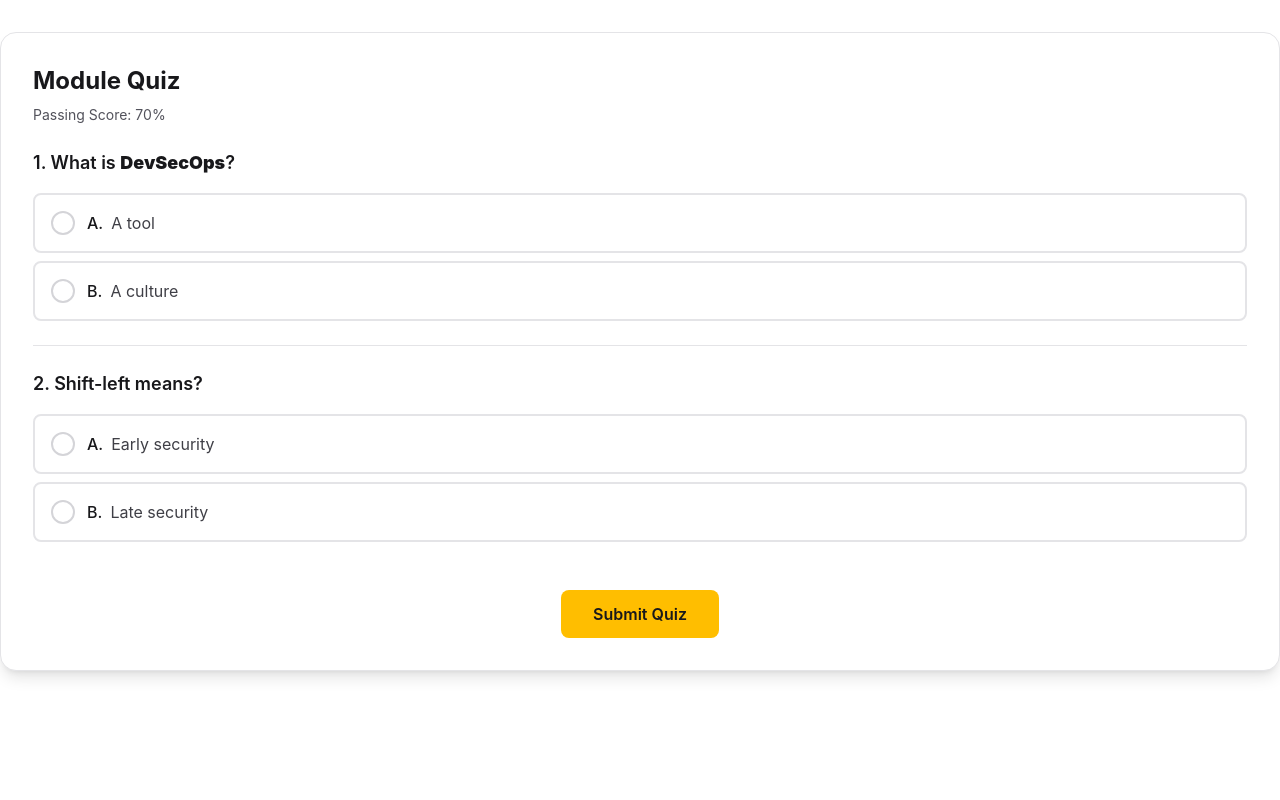
Scenario: maps a 503 to a temporarily-unavailable message
Click the text "A culture" at (144, 291), box x1=110 y1=281 x2=178 y2=301
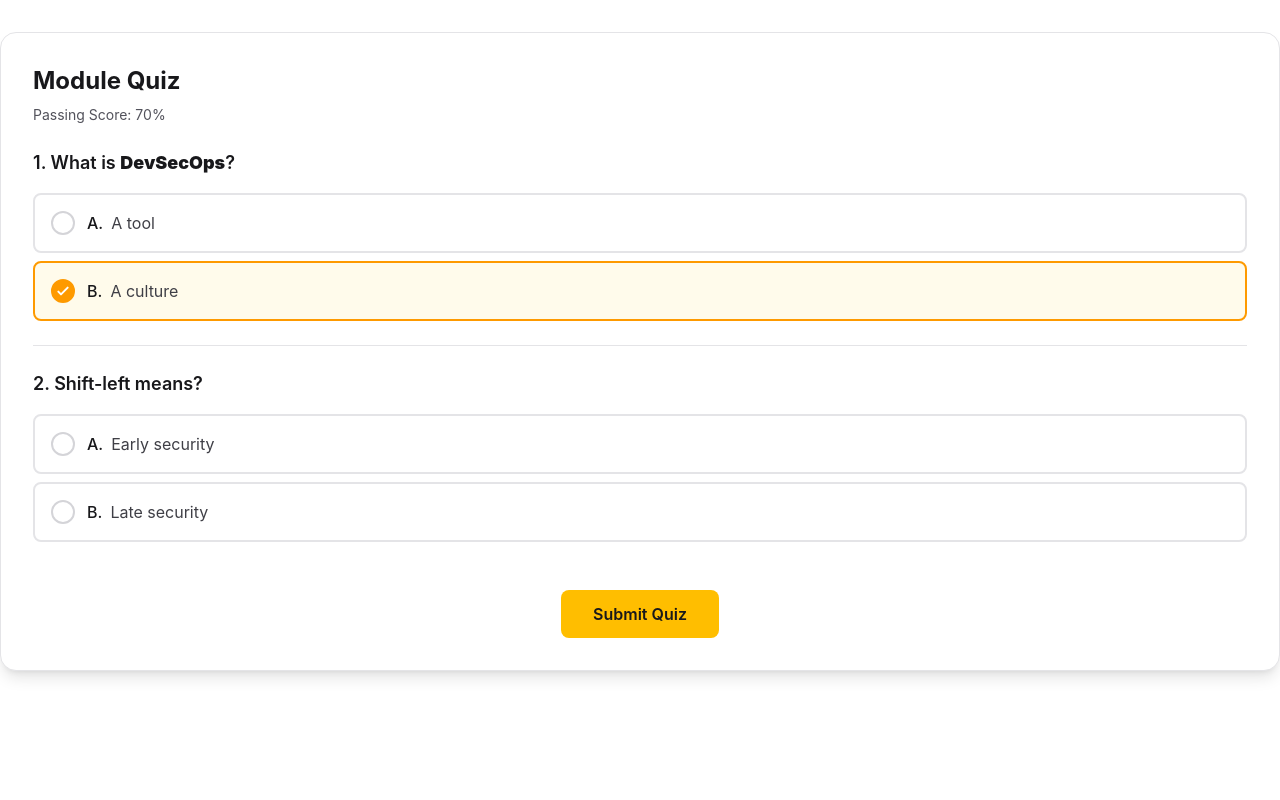
Click the text "Early security" at (163, 444), box x1=111 y1=434 x2=214 y2=454
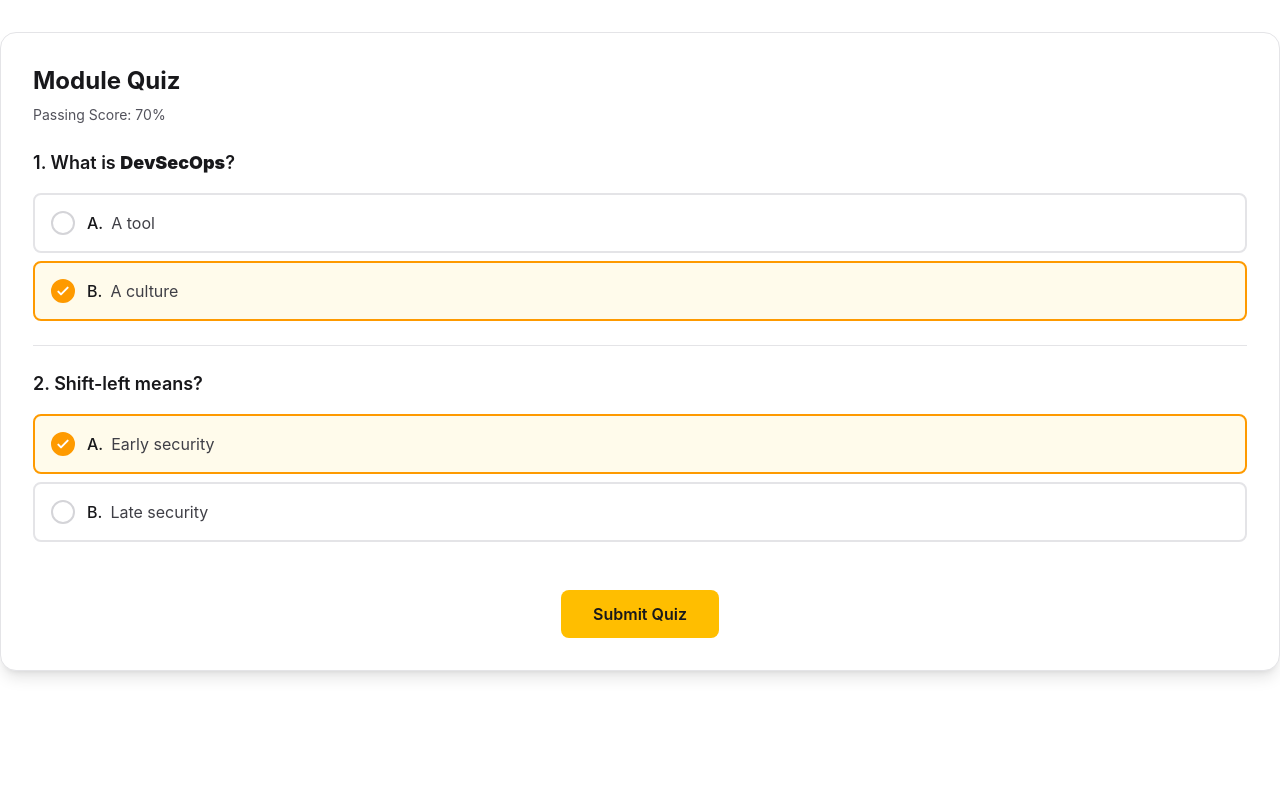
Click the button "Submit Quiz" at (640, 614), box x1=561 y1=590 x2=719 y2=638
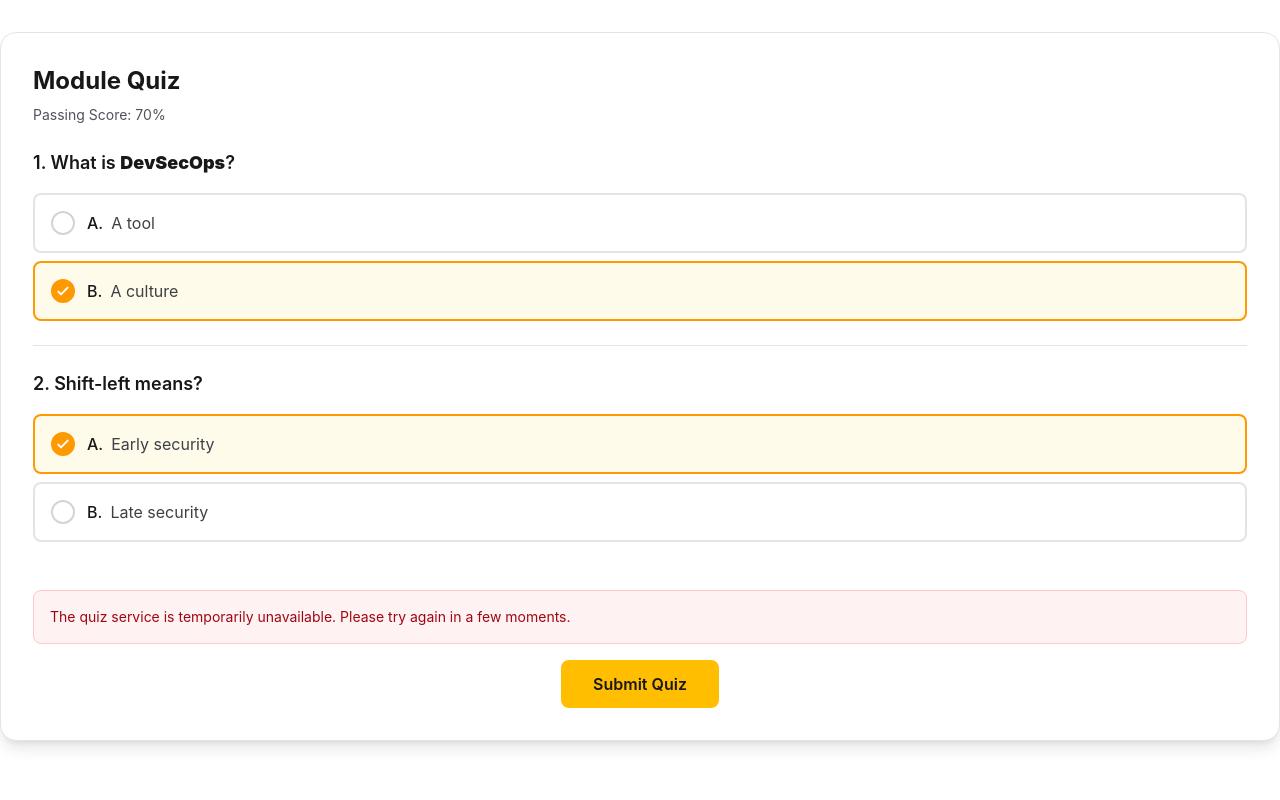
Result: the text "temporarily unavailable" is shown at x1=50 y1=608 x2=570 y2=625
